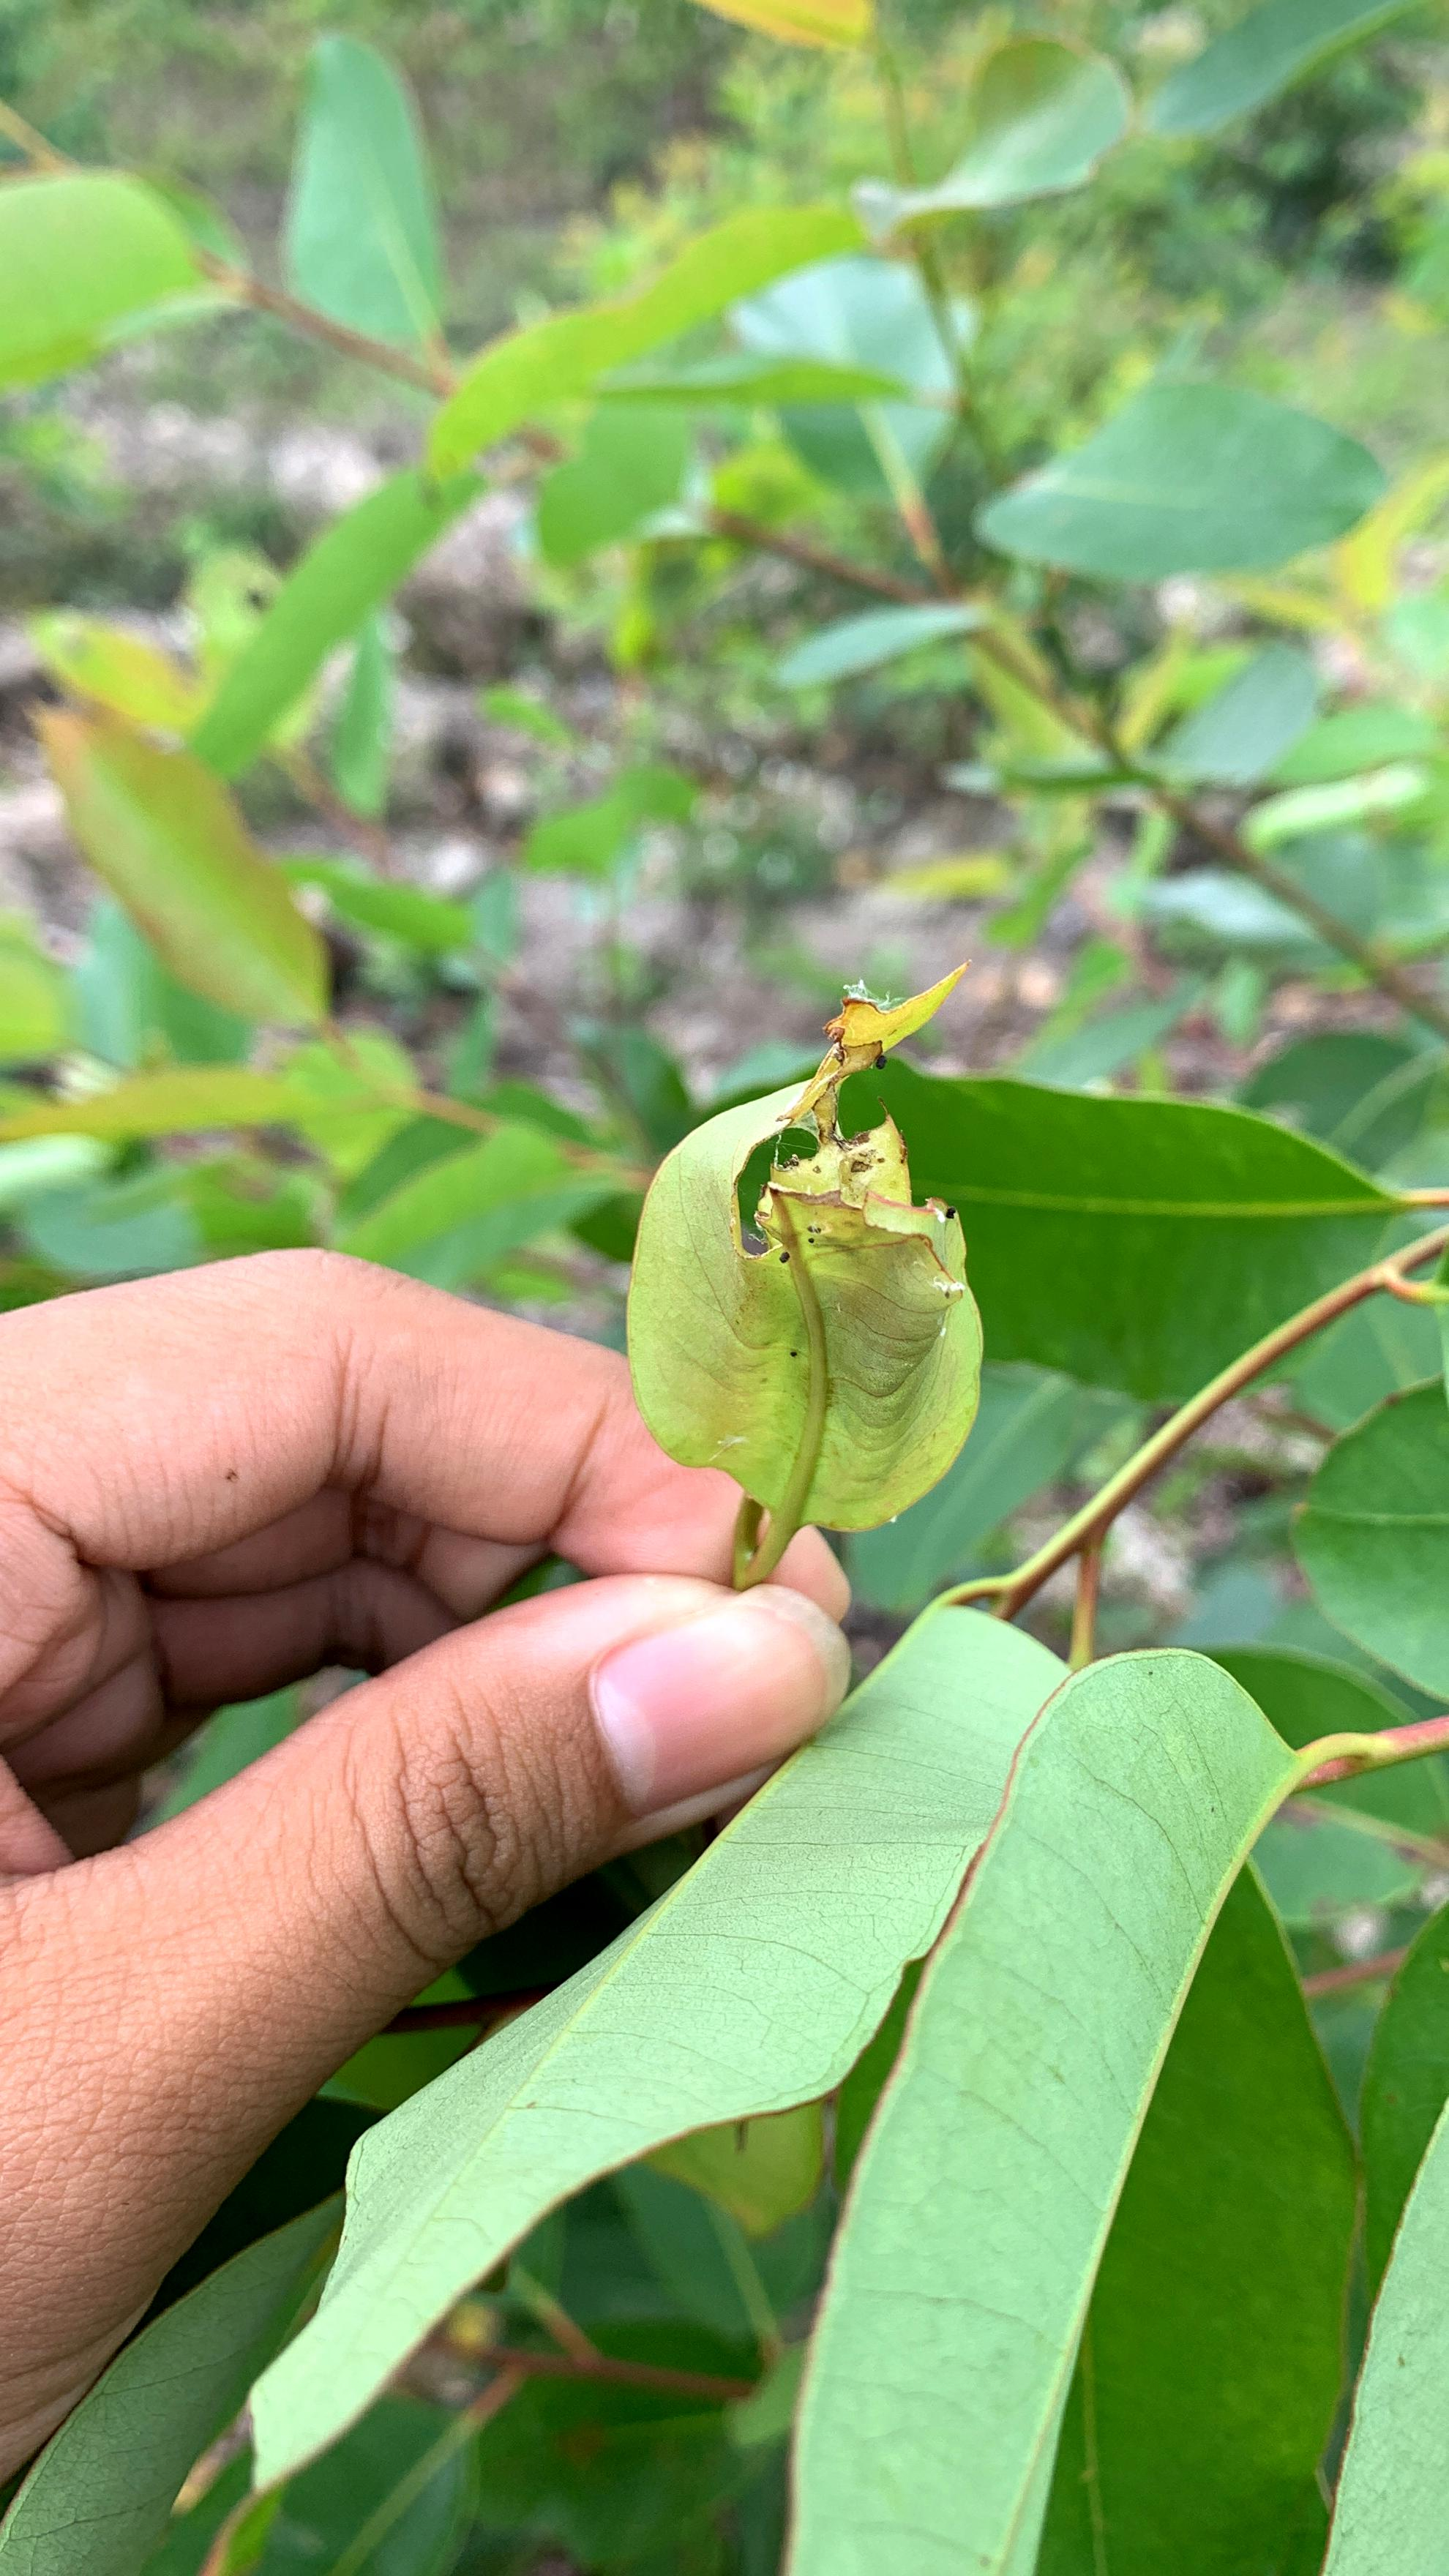Leaf Roller - Leaf: (648, 952, 998, 1533)
